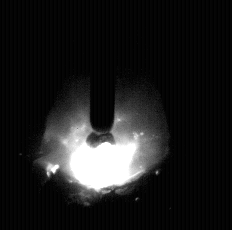arame: (91, 0, 115, 147)
poca: (41, 0, 170, 230)
